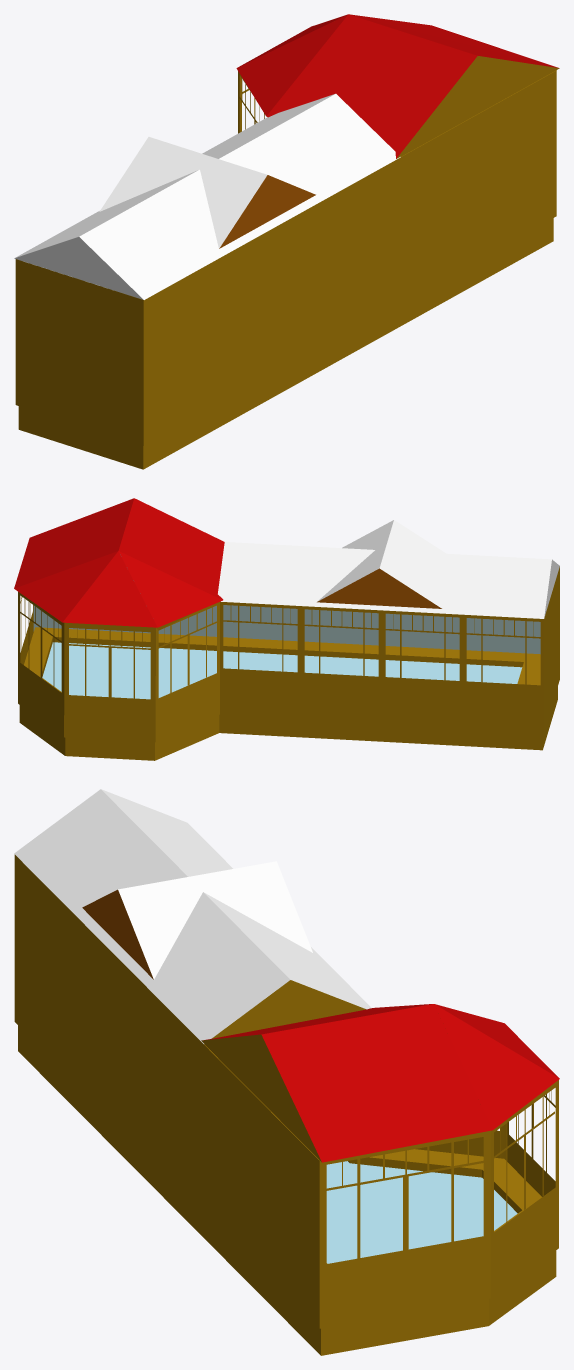
Rendered from IndoorPool.gltf.
3 views of the same model, one above another, from view 1: azimuth 30°, elevation 25°; view 2: azimuth 150°, elevation 25°; view 3: azimuth 270°, elevation 25° (orthographic). The views are drawn at different scales.
Visible parts, largest first — view 1: Mesh7 Pool1 Model; view 2: Mesh7 Pool1 Model, Mesh1 Group1 Pool1 Model, Mesh5 Group3 Pool1 Model; view 3: Mesh7 Pool1 Model, Mesh3 Group2 Pool1 Model, Mesh1 Group1 Pool1 Model.
Part boxes in pixels (left/top/right/bottom): Mesh7 Pool1 Model: left=14, top=14, right=559, bottom=469; Mesh7 Pool1 Model: left=14, top=498, right=559, bottom=760; Mesh1 Group1 Pool1 Model: left=20, top=599, right=61, bottom=686; Mesh5 Group3 Pool1 Model: left=158, top=607, right=216, bottom=692; Mesh7 Pool1 Model: left=14, top=789, right=559, bottom=1355; Mesh3 Group2 Pool1 Model: left=326, top=1139, right=483, bottom=1258; Mesh1 Group1 Pool1 Model: left=494, top=1092, right=554, bottom=1222.
Bounding box in the file's own units: 3145 × 1140 × 2135.
